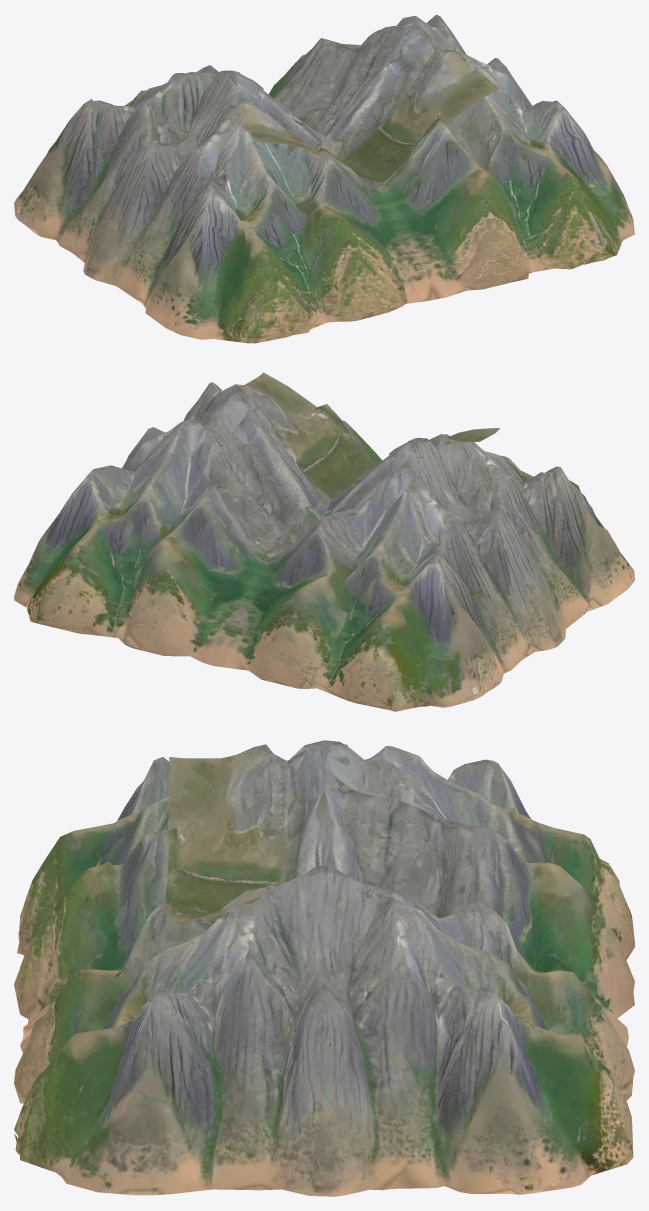
Rendered from mountains_aegean.glb.
The picture shows the model from 3 angles, top to bottom: view 1: azimuth 30°, elevation 25°; view 2: azimuth 150°, elevation 25°; view 3: azimuth 270°, elevation 25°; orthographic projection. The views are drawn at different scales.
Visible parts, largest first — view 1: 0; view 2: 0; view 3: 0.
Part boxes in pixels (left/top/right/bottom): 0: left=14, top=14, right=634, bottom=343; 0: left=14, top=372, right=634, bottom=711; 0: left=14, top=740, right=634, bottom=1196.
Size of the model in its own units: 1.91 by 0.6692 by 1.58.
Materials: 1 (1 with a texture image).
